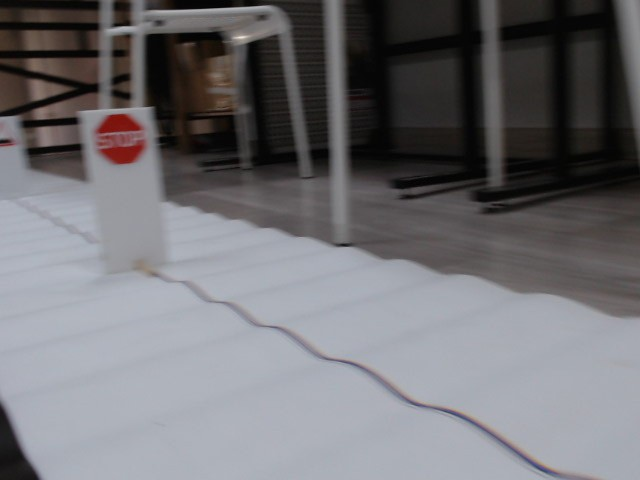Stop: (95, 114, 149, 166)
